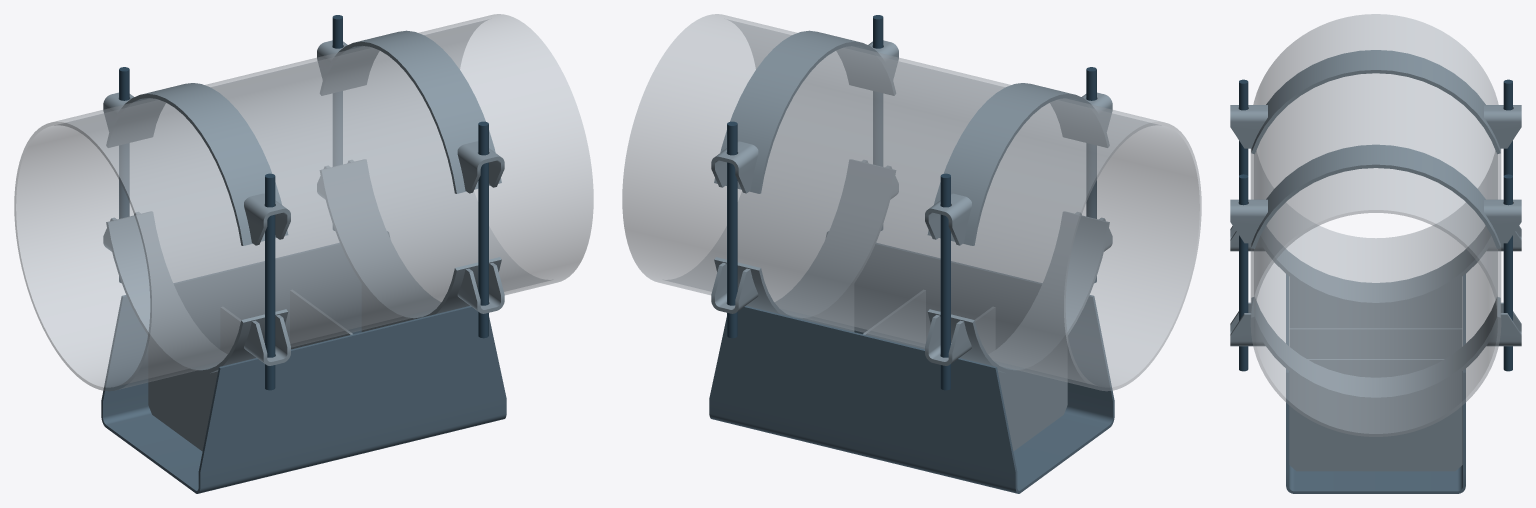
The model's file is TS-627.00.000-059-opora-dn530-H200-L680.glb.
3 views of the same model, side by side, from view 1: azimuth 30°, elevation 25°; view 2: azimuth 150°, elevation 25°; view 3: azimuth 270°, elevation 25° (orthographic). The views are drawn at different scales.
Visible parts, largest first — view 1: truba, skoba_0, podushka_5, podushka_6, bugel1_podushka_0, bugel0_podushka_0, rebro4_1, shpilka_0_-1, shpilka_1_-1, rebro5_4, bugel0_ushko_2, bugel1_ushko_2 (+6 smaller); view 2: truba, skoba_0, podushka_5, podushka_6, bugel1_podushka_0, bugel0_podushka_0, rebro4_1, shpilka_0_1, shpilka_1_1, rebro5_4, bugel0_ushko_1, bugel1_ushko_1 (+6 smaller); view 3: truba, rebro4_2, podushka_6, bugel1_podushka_0, bugel0_podushka_0, rebro4_1, podushka_5, skoba_0, rebro5_3, rebro5_4, shpilka_1_1, shpilka_1_-1 (+8 smaller).
Part boxes in pixels (bbox=[...]): truba: bbox=[14, 14, 593, 391]; skoba_0: bbox=[101, 231, 506, 493]; podushka_5: bbox=[106, 211, 288, 374]; podushka_6: bbox=[320, 159, 501, 321]; bugel1_podushka_0: bbox=[320, 30, 501, 193]; bugel0_podushka_0: bbox=[106, 83, 288, 245]; rebro4_1: bbox=[148, 337, 217, 451]; shpilka_0_-1: bbox=[265, 173, 275, 390]; shpilka_1_-1: bbox=[478, 121, 488, 338]; rebro5_4: bbox=[290, 290, 352, 349]; bugel0_ushko_2: bbox=[244, 193, 290, 245]; bugel1_ushko_2: bbox=[457, 141, 504, 193]; truba: bbox=[622, 14, 1201, 391]; skoba_0: bbox=[709, 231, 1114, 493]; podushka_5: bbox=[927, 211, 1109, 374]; podushka_6: bbox=[714, 159, 895, 321]; bugel1_podushka_0: bbox=[714, 30, 895, 193]; bugel0_podushka_0: bbox=[927, 83, 1109, 245]; rebro4_1: bbox=[998, 337, 1067, 451]; shpilka_0_1: bbox=[940, 173, 950, 390]; shpilka_1_1: bbox=[727, 121, 737, 338]; rebro5_4: bbox=[863, 290, 925, 349]; bugel0_ushko_1: bbox=[925, 193, 971, 245]; bugel1_ushko_1: bbox=[711, 141, 758, 193]; truba: bbox=[1250, 14, 1501, 436]; rebro4_2: bbox=[1289, 371, 1462, 471]; podushka_6: bbox=[1251, 297, 1500, 401]; bugel1_podushka_0: bbox=[1251, 144, 1500, 248]; bugel0_podushka_0: bbox=[1251, 50, 1500, 154]; rebro4_1: bbox=[1289, 277, 1462, 345]; podushka_5: bbox=[1259, 226, 1492, 306]; skoba_0: bbox=[1286, 274, 1465, 493]; rebro5_3: bbox=[1289, 328, 1462, 358]; rebro5_4: bbox=[1307, 359, 1444, 377]; shpilka_1_1: bbox=[1503, 174, 1512, 371]; shpilka_1_-1: bbox=[1239, 174, 1248, 371].
Size of the model in its own units: 980 by 744 by 616.
